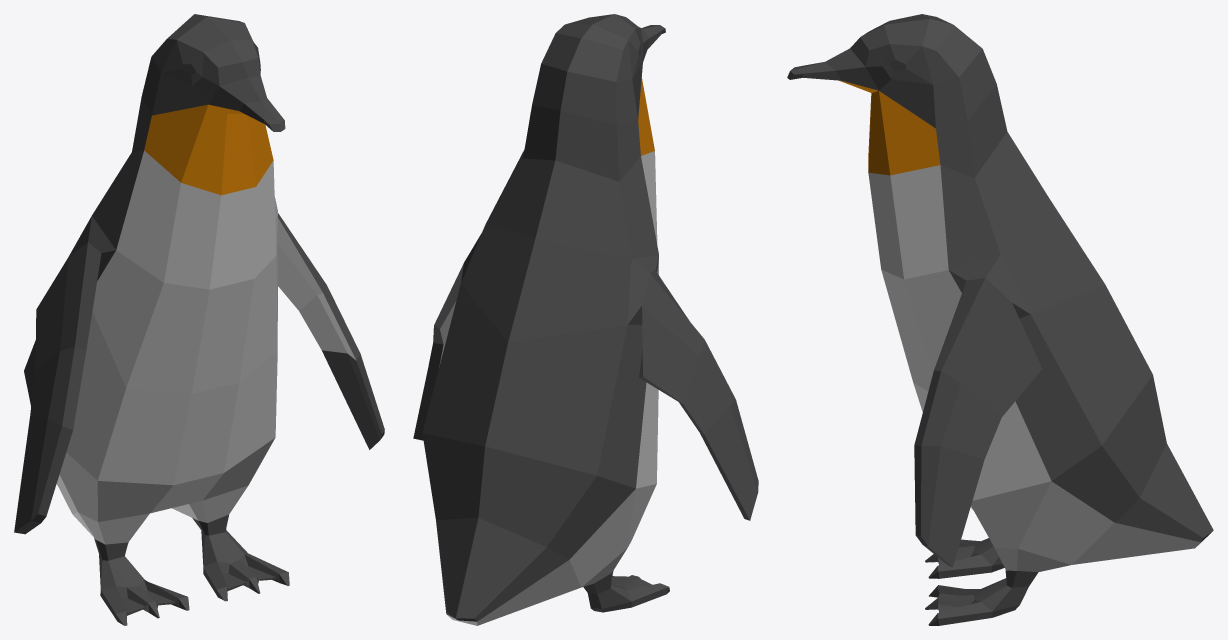
The model's file is penguin_01.fbx.
3 views of the same model, side by side, from view 1: azimuth 30°, elevation 25°; view 2: azimuth 150°, elevation 25°; view 3: azimuth 270°, elevation 25° (orthographic). The views are drawn at different scales.
Parts seen in each view (by area): view 1: PENGUIN_01; view 2: PENGUIN_01; view 3: PENGUIN_01.
Part boxes in pixels (left/top/right/bottom): PENGUIN_01: left=14, top=14, right=384, bottom=625; PENGUIN_01: left=413, top=14, right=758, bottom=625; PENGUIN_01: left=787, top=14, right=1213, bottom=625.
Bounding box in the file's own units: 96.34 × 150 × 102.
